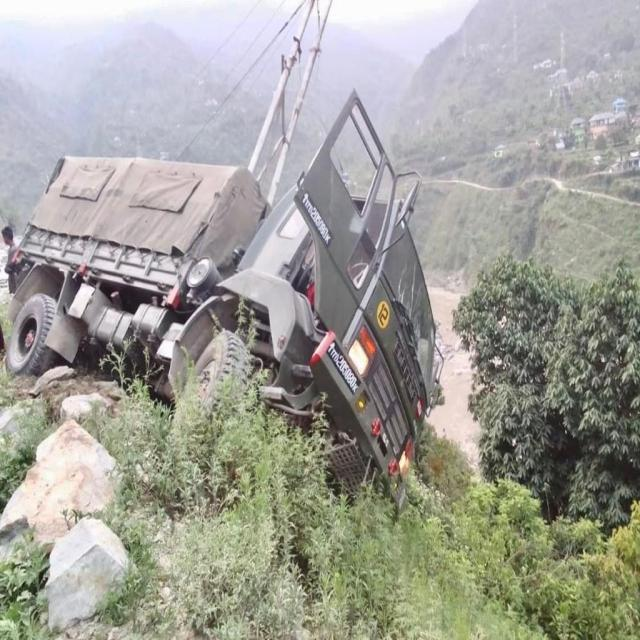accident: (8, 92, 439, 501)
